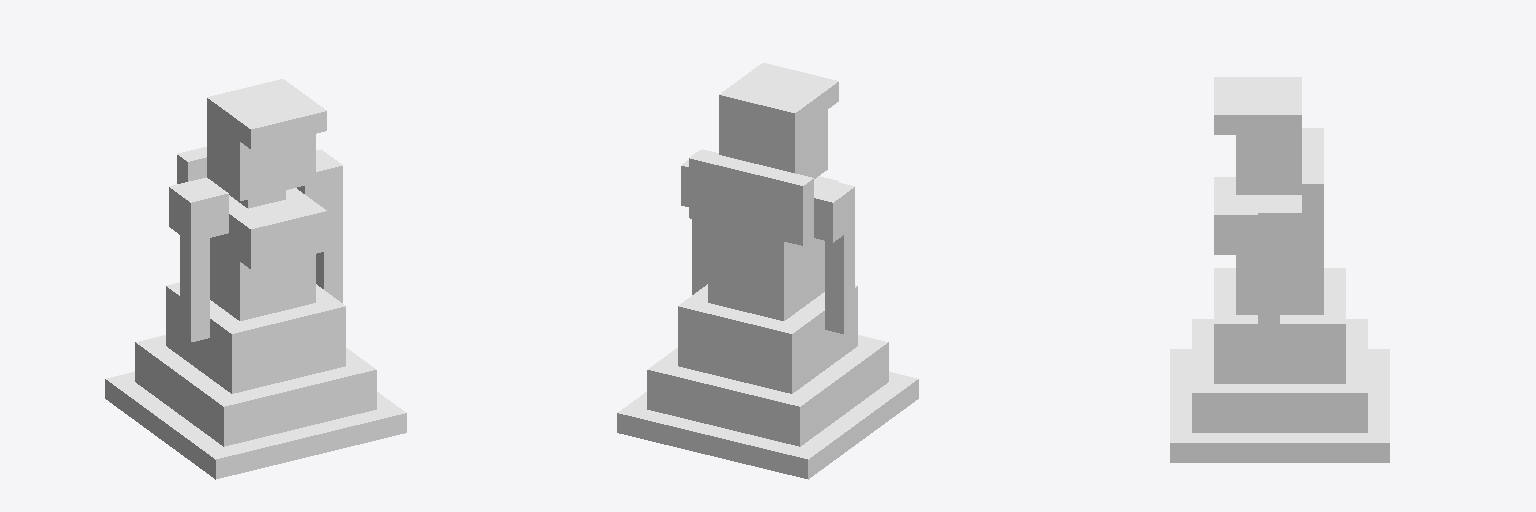
Rendered from princess.obj.
3 views of the same model, side by side, from view 1: azimuth 30°, elevation 25°; view 2: azimuth 150°, elevation 25°; view 3: azimuth 270°, elevation 25° (orthographic).
Bounding box in the file's own units: 10 × 16 × 10.